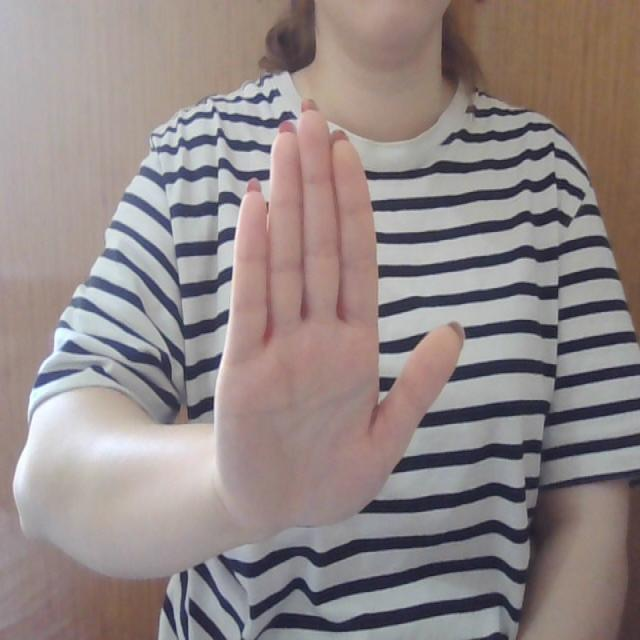Dur: (192, 95, 469, 537)
